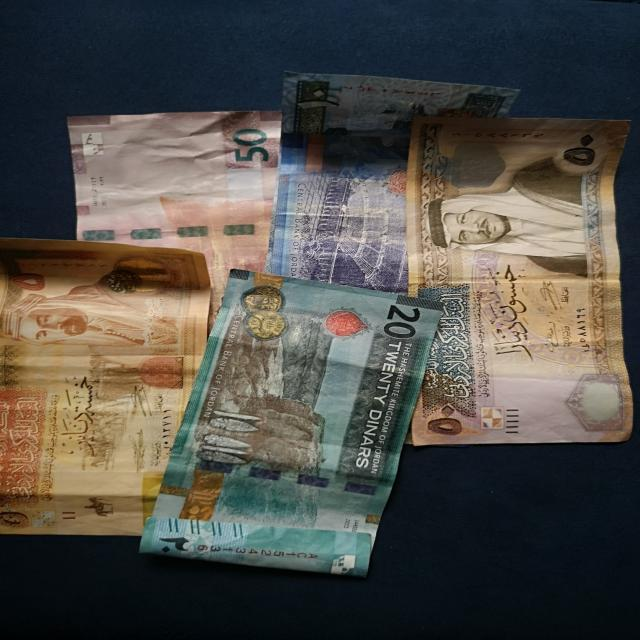10-dinar: (255, 73, 523, 446)
20-dinar: (138, 269, 446, 576)
5-dinar: (0, 236, 212, 535)
50-dinar: (64, 112, 329, 461), (412, 118, 637, 448)
